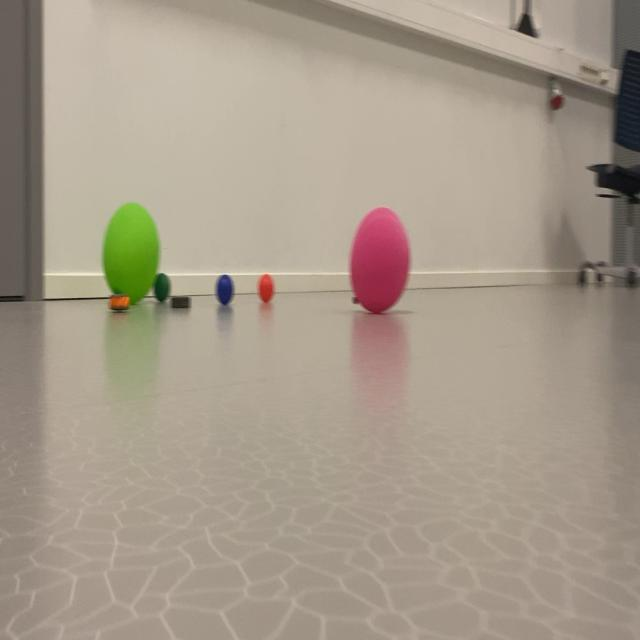7: (238, 228, 290, 348)
green ball: (205, 240, 243, 346)
red ball: (150, 246, 178, 319)
